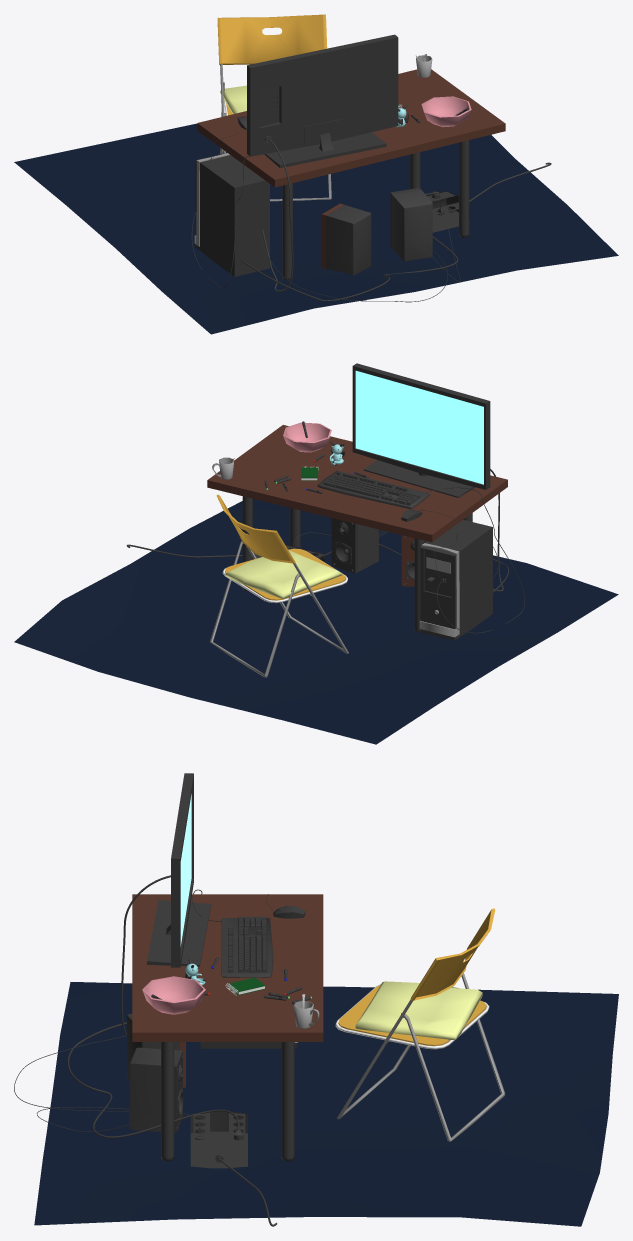
3 views of the same model, one above another, from view 1: azimuth 30°, elevation 25°; view 2: azimuth 150°, elevation 25°; view 3: azimuth 270°, elevation 25° (orthographic). The views are drawn at different scales.
Visible parts, largest first — view 1: Object_7, Object_17, Object_15, Object_19, Object_20, Object_16, Object_13, Object_18, Object_10; view 2: Object_7, Object_17, Object_15, Object_6, Object_19, Object_10, Object_20, Object_18, Object_13, Object_16, Object_14; view 3: Object_7, Object_15, Object_17, Object_19, Object_10, Object_20, Object_16, Object_18, Object_13, Object_6, Object_14, Object_21.
Part boxes in pixels (x1=…): Object_7: x1=14, y1=123, x2=618, y2=334; Object_17: x1=191, y1=34, x2=469, y2=287; Object_15: x1=197, y1=69, x2=505, y2=268; Object_19: x1=262, y1=135, x2=551, y2=291; Object_20: x1=217, y1=14, x2=327, y2=115; Object_16: x1=209, y1=104, x2=458, y2=302; Object_13: x1=421, y1=96, x2=471, y2=127; Object_18: x1=194, y1=54, x2=432, y2=246; Object_10: x1=220, y1=85, x2=246, y2=114; Object_7: x1=14, y1=499, x2=618, y2=744; Object_17: x1=253, y1=363, x2=524, y2=640; Object_15: x1=207, y1=425, x2=507, y2=586; Object_6: x1=355, y1=370, x2=483, y2=484; Object_19: x1=126, y1=469, x2=503, y2=631; Object_10: x1=225, y1=550, x2=341, y2=598; Object_20: x1=216, y1=494, x2=345, y2=600; Object_18: x1=210, y1=457, x2=459, y2=677; Object_13: x1=283, y1=422, x2=331, y2=452; Object_16: x1=316, y1=442, x2=509, y2=592; Object_14: x1=246, y1=546, x2=348, y2=654; Object_7: x1=34, y1=982, x2=618, y2=1226; Object_15: x1=132, y1=894, x2=323, y2=1087; Object_17: x1=147, y1=773, x2=310, y2=1168; Object_19: x1=36, y1=875, x2=294, y2=1226; Object_10: x1=355, y1=981, x2=482, y2=1039; Object_20: x1=338, y1=908, x2=495, y2=1045; Object_16: x1=14, y1=894, x2=273, y2=1138; Object_18: x1=293, y1=973, x2=505, y2=1141; Object_13: x1=142, y1=976, x2=205, y2=1014; Object_6: x1=180, y1=794, x2=191, y2=946; Object_14: x1=336, y1=1000, x2=412, y2=1119; Object_21: x1=225, y1=983, x2=489, y2=1049.
Size of the model in its own units: 9.99 by 4.92 by 10.08.
